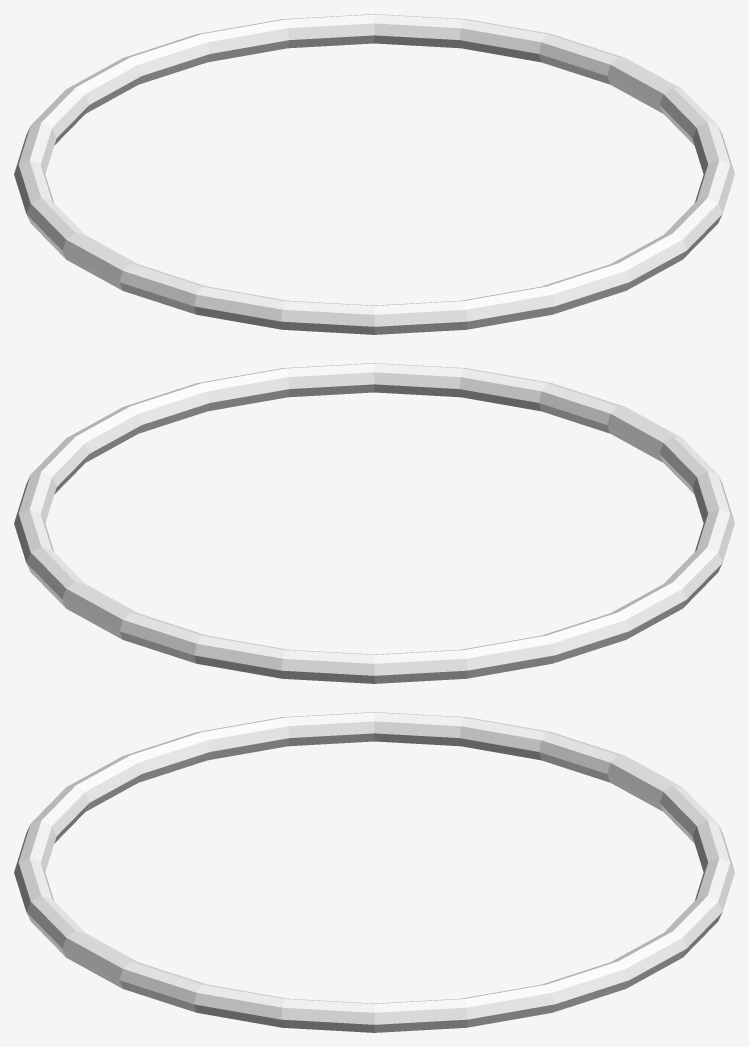
File: pylon_core_4.obj
3 views of the same model, one above another, from view 1: azimuth 30°, elevation 25°; view 2: azimuth 150°, elevation 25°; view 3: azimuth 270°, elevation 25° (orthographic).
Visible parts, largest first — view 1: torus; view 2: torus; view 3: torus.
Boxes of the visible parts, x1,y1,x2,y2 form: torus: (14,14,734,334); torus: (14,363,734,683); torus: (14,712,734,1032).
Size of the model in its own units: 0.7188 by 0.0312 by 0.7188.
Materials: 1 (1 with a texture image).
